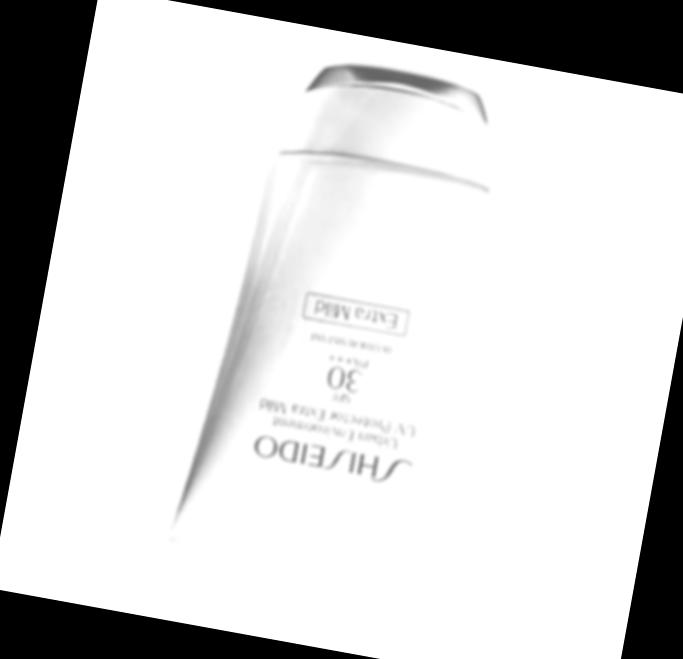cosmetic: (164, 39, 545, 600)
